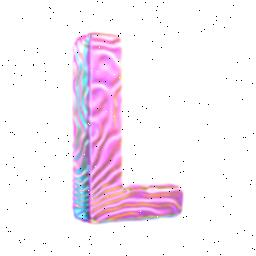l: (58, 22, 218, 256)
